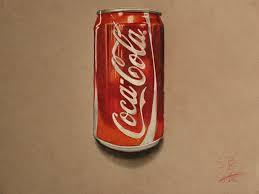Aluminum can: (83, 2, 173, 155)
